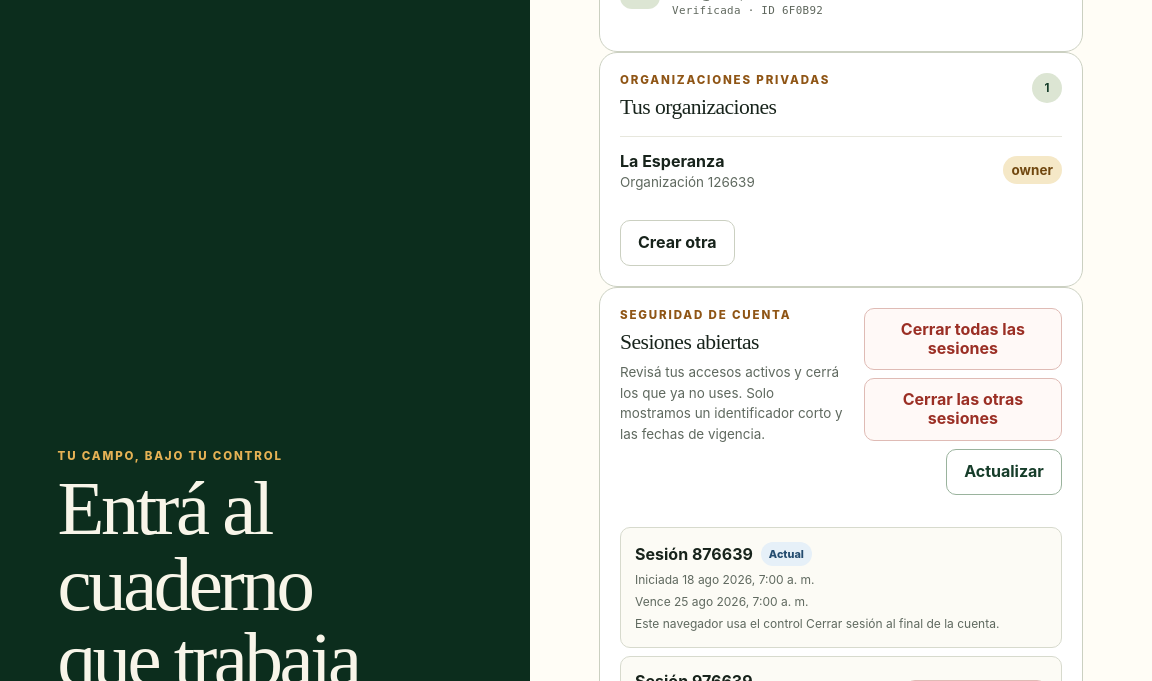
IdentityHub own session management › closes all sessions including this browser and clears the authenticated resource
This screenshot has width=1152, height=681.
(page scrolled)
Click the button "Cerrar todas las sesiones" at point(963, 339), box [864,308,1062,370]
(page scrolled)
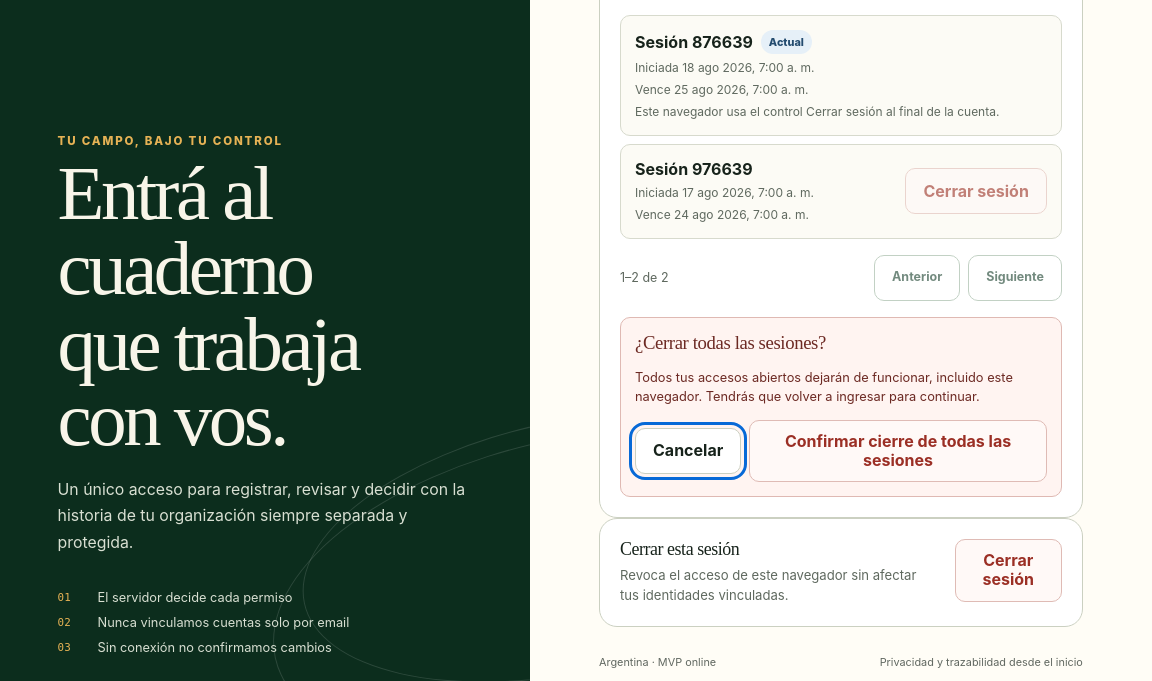
Click the button "Confirmar cierre de todas las sesiones" at point(898, 451), box [749,420,1047,482]
(page scrolled)
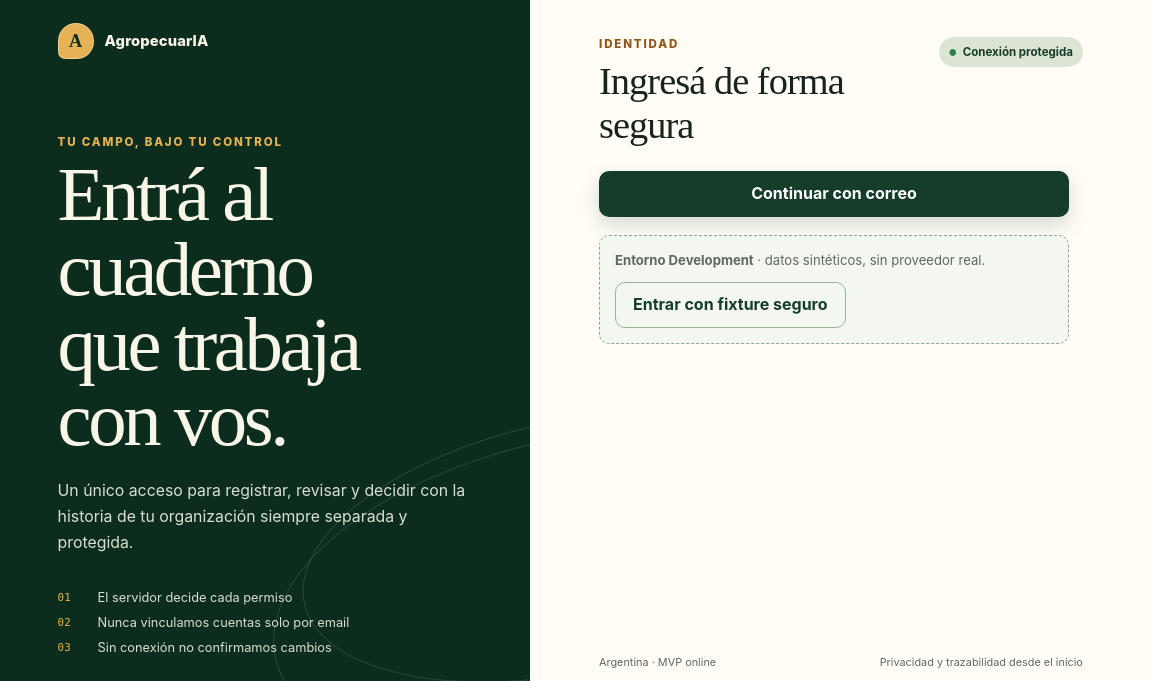
Check: the heading "Ingresá de forma segura" is shown, box [599,60,844,146]
